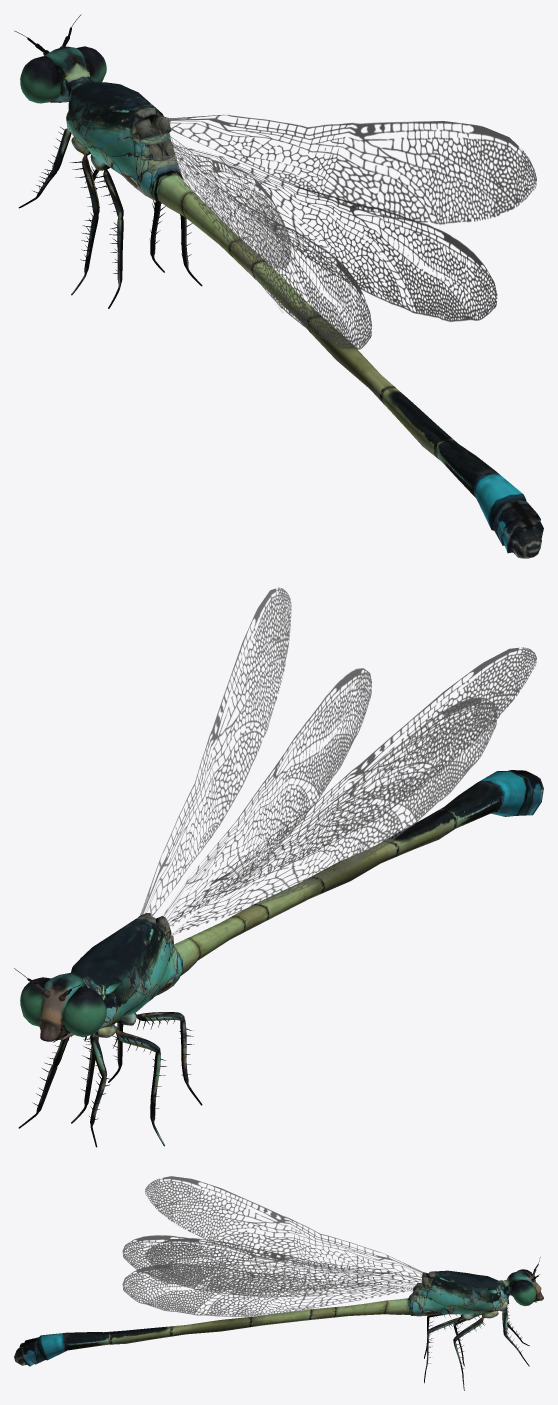
The model's file is dragonfly.gltf.
3 renders of one model, top to bottom at view 1: azimuth 30°, elevation 25°; view 2: azimuth 150°, elevation 25°; view 3: azimuth 270°, elevation 25°, orthographic. The views are drawn at different scales.
Parts seen in each view (by area): view 1: Plane.001_3, Plane.001_3.001, Cube_1, Plane.003_5, Sphere_2; view 2: Plane.001_3, Plane.001_3.001, Cube_1, Plane.003_5, Sphere_2; view 3: Plane.001_3, Plane.001_3.001, Cube_1, Plane.003_5, Sphere_2.
Part boxes in pixels (left/top/right/bottom): Plane.001_3: left=141, top=115, right=536, bottom=349; Plane.001_3.001: left=141, top=115, right=536, bottom=349; Cube_1: left=44, top=46, right=543, bottom=558; Plane.003_5: left=18, top=112, right=202, bottom=308; Sphere_2: left=20, top=46, right=106, bottom=103; Plane.001_3: left=140, top=587, right=536, bottom=935; Plane.001_3.001: left=140, top=588, right=536, bottom=932; Cube_1: left=39, top=770, right=543, bottom=1041; Plane.003_5: left=18, top=1012, right=202, bottom=1147; Sphere_2: left=20, top=977, right=106, bottom=1037; Plane.001_3: left=122, top=1176, right=424, bottom=1318; Plane.001_3.001: left=123, top=1176, right=423, bottom=1316; Cube_1: left=14, top=1270, right=543, bottom=1366; Plane.003_5: left=424, top=1301, right=536, bottom=1390; Sphere_2: left=512, top=1269, right=536, bottom=1306.
Bounding box in the file's own units: 2.34 × 2.84 × 8.
6 materials, 6 textured.
